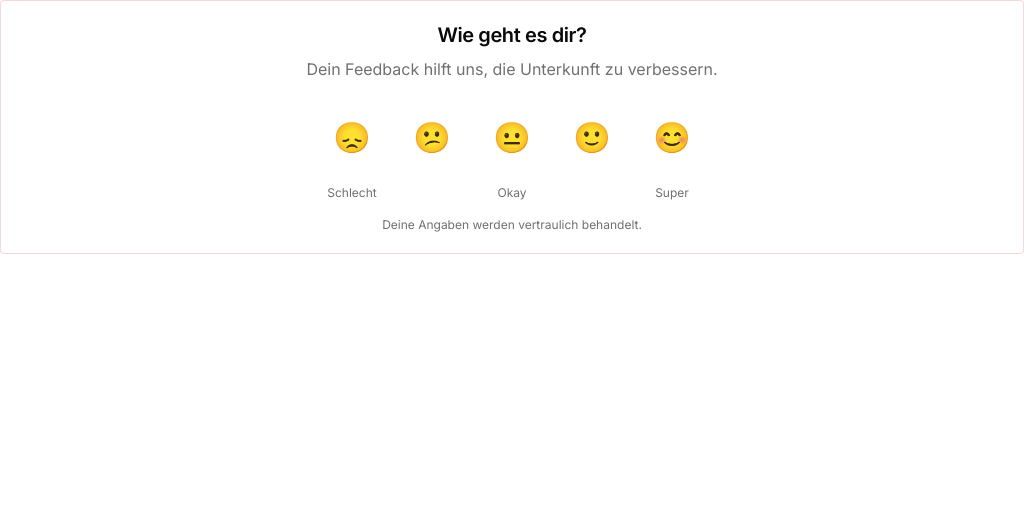
it: SatisfactionRating › shows thank-you view after submitting with concerns for low rating
Step 1. Click the button named "Sehr unzufrieden" → (352, 137), box x1=320 y1=105 x2=384 y2=169
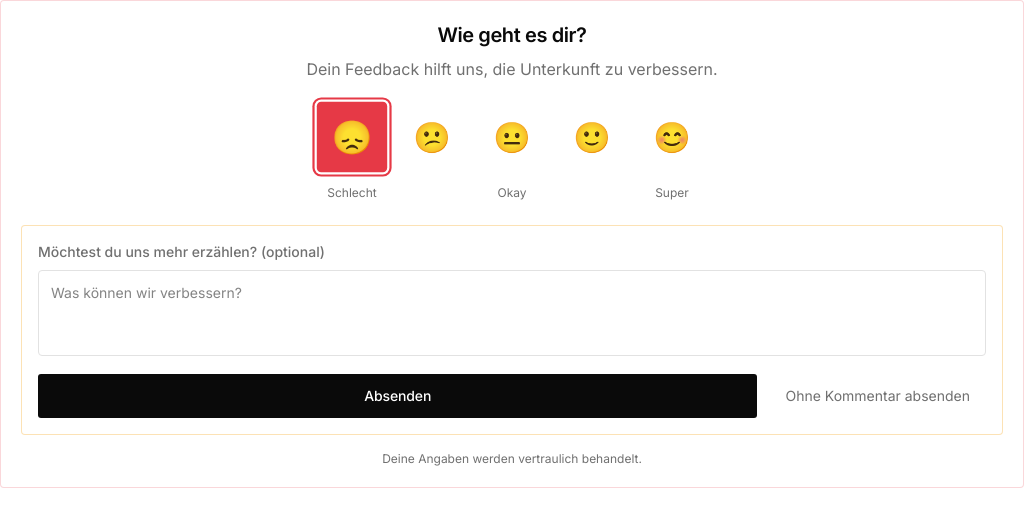
Step 2. Type "Es ist zu laut" into the text box with placeholder "Was können wir verbessern?" → (512, 313), box x1=38 y1=270 x2=986 y2=356
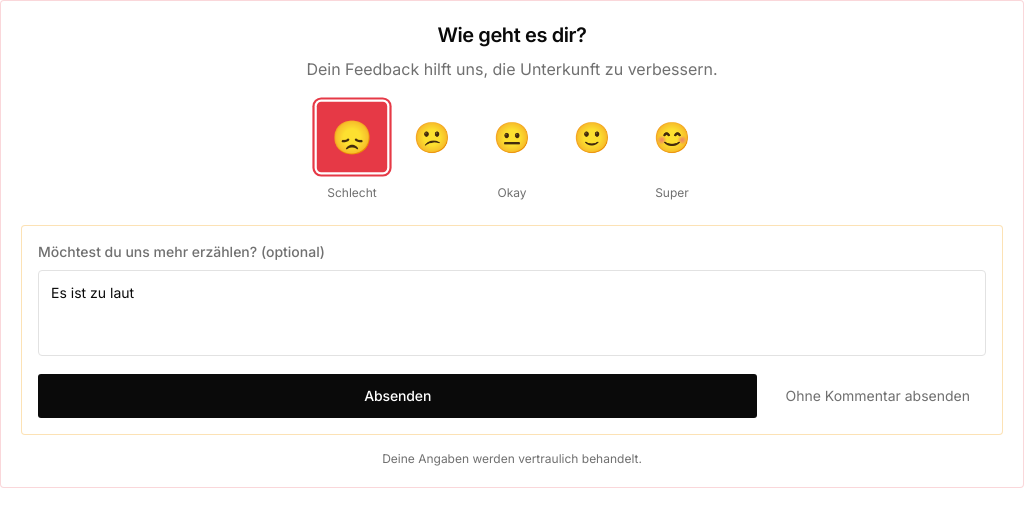
Step 3. Click the button "Absenden" → (398, 396), box x1=38 y1=374 x2=758 y2=418
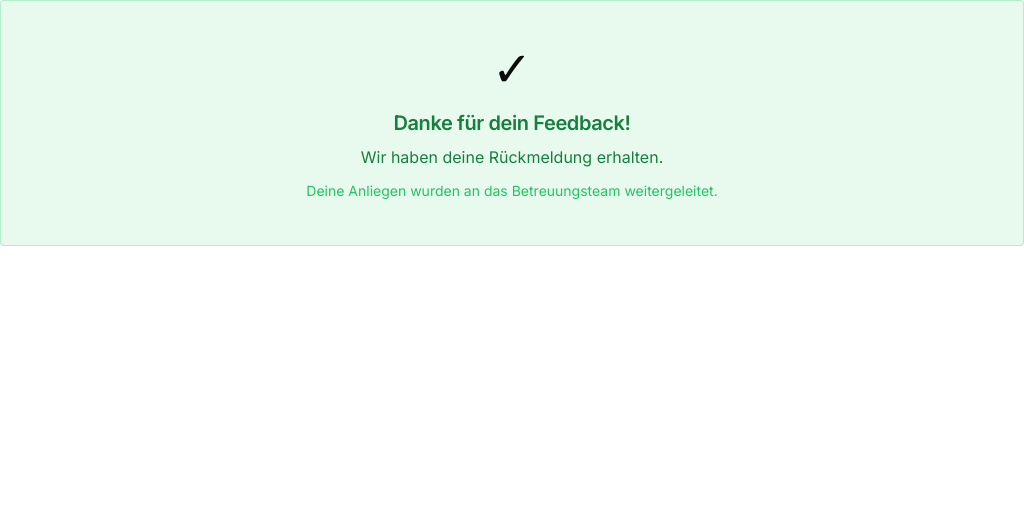
Now the heading "Danke für dein Feedback!" is shown, box x1=394 y1=111 x2=631 y2=135
